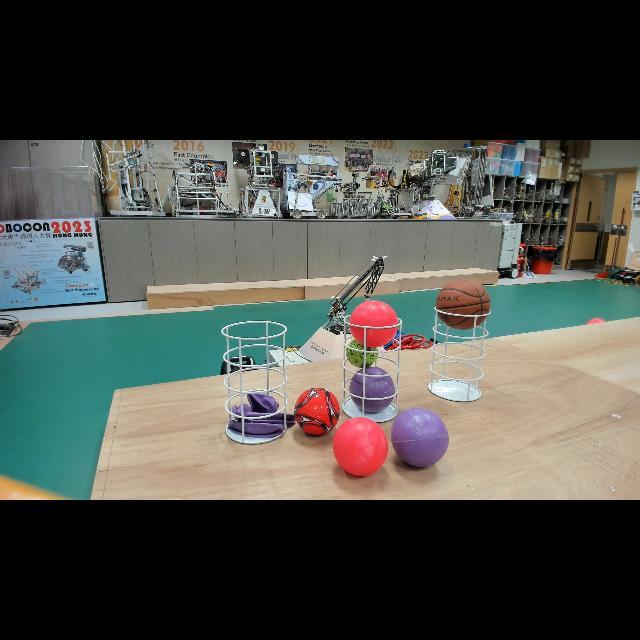P: (390, 407, 450, 471), (348, 366, 397, 414)
R: (330, 416, 390, 478), (348, 298, 400, 349)
S: (219, 320, 289, 446), (342, 314, 402, 424), (426, 304, 492, 404)
